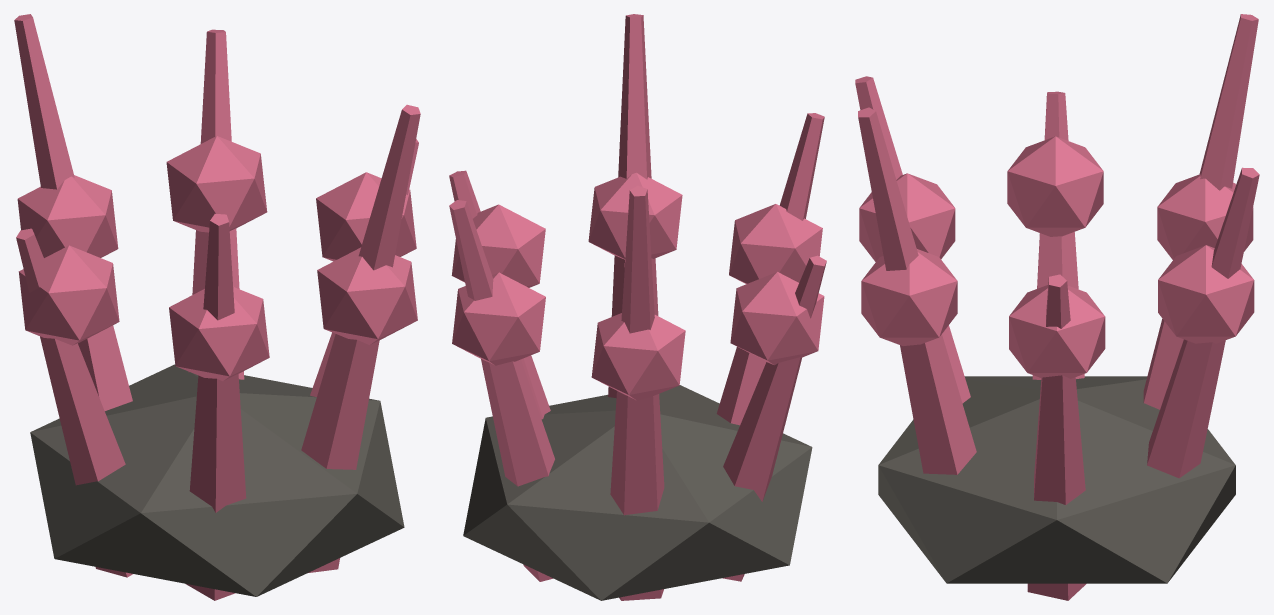
The model's file is NAT_Coral_A.fbx.
3 views of the same model, side by side, from view 1: azimuth 30°, elevation 25°; view 2: azimuth 150°, elevation 25°; view 3: azimuth 270°, elevation 25° (orthographic). The views are drawn at different scales.
Visible parts, largest first — view 1: NAT_Coral_A__BODY; view 2: NAT_Coral_A__BODY; view 3: NAT_Coral_A__BODY.
Part boxes in pixels (bbox=[...]): NAT_Coral_A__BODY: bbox=[14, 14, 420, 600]; NAT_Coral_A__BODY: bbox=[449, 14, 826, 600]; NAT_Coral_A__BODY: bbox=[855, 14, 1259, 600].
Bounding box in the file's own units: 1.37 × 1.65 × 1.2.
